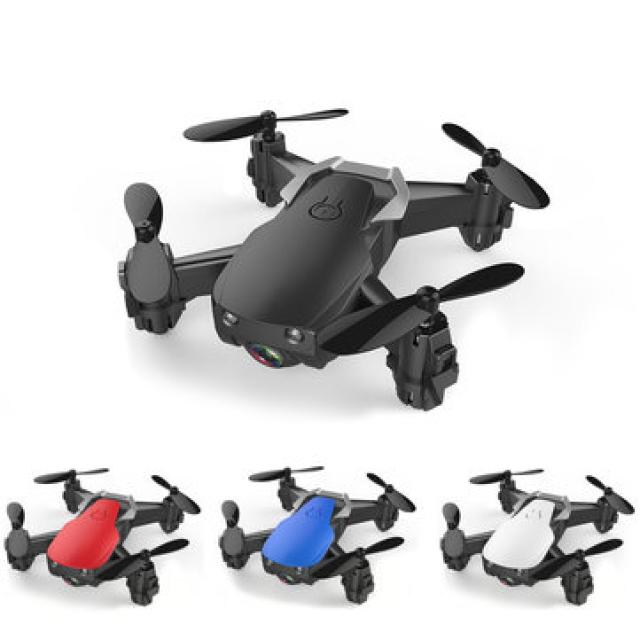drone: (92, 96, 569, 423), (211, 456, 424, 610), (440, 463, 638, 617), (5, 464, 206, 612)
